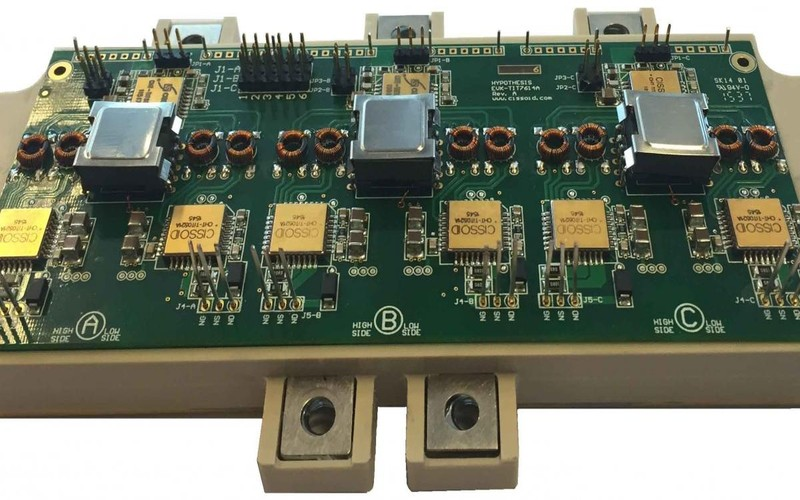Cirtuit-Board: (0, 33, 800, 366)
